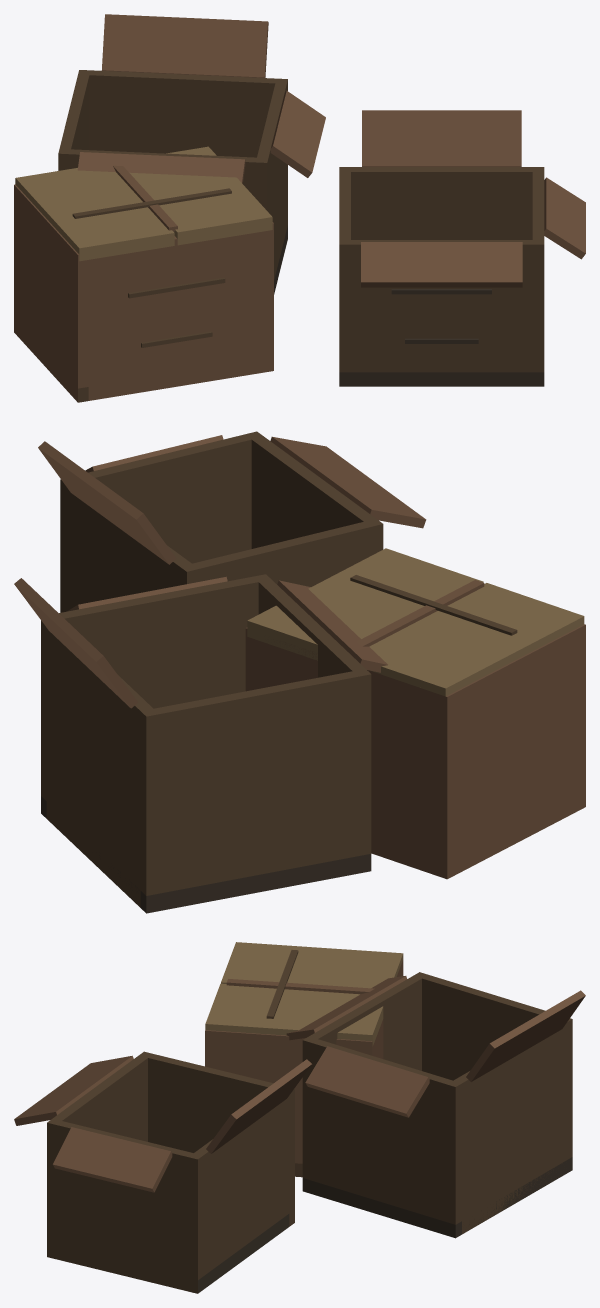
The model's file is CMU3DDecorFloorCardboardWest.glb.
The picture shows the model from 3 angles, top to bottom: view 1: azimuth 30°, elevation 25°; view 2: azimuth 150°, elevation 25°; view 3: azimuth 270°, elevation 25°; orthographic projection. The views are drawn at different scales.
Parts seen in each view (by area): view 1: carton 2 front wall, carton 3 front wall, carton 1 back wall, carton 3 back wall, carton 2 left wall, carton 1 raised back flap, carton 3 raised back flap, carton 2 closed lid half -1, carton 3 folded front flap, carton 2 closed lid half 1, carton 1 right wall, carton 1 folded front flap (+12 smaller); view 2: carton 1 left wall, carton 2 left wall, carton 1 back wall, carton 1 right wall, carton 2 back wall, carton 3 right wall, carton 2 closed lid half -1, carton 2 closed lid half 1, carton 3 front wall, carton 3 back wall, carton 3 left wall, carton 1 recessed bottom (+10 smaller); view 3: carton 1 right wall, carton 3 right wall, carton 1 back wall, carton 3 back wall, carton 3 left wall, carton 1 left wall, carton 2 closed lid half -1, carton 2 closed lid half 1, carton 2 right wall, carton 1 side flap, carton 3 side flap, carton 3 front wall (+9 smaller).
Boxes of the visible parts, x1,y1,x2,y2 form: carton 2 front wall: [88, 231, 263, 400]; carton 3 front wall: [351, 240, 532, 372]; carton 1 back wall: [89, 70, 276, 157]; carton 3 back wall: [351, 167, 532, 239]; carton 2 left wall: [14, 184, 88, 402]; carton 1 raised back flap: [102, 14, 268, 77]; carton 3 raised back flap: [362, 110, 521, 166]; carton 2 closed lid half -1: [15, 168, 174, 261]; carton 3 folded front flap: [361, 242, 522, 287]; carton 2 closed lid half 1: [129, 146, 272, 245]; carton 1 right wall: [255, 78, 287, 279]; carton 1 folded front flap: [77, 152, 245, 183]; carton 1 left wall: [140, 669, 371, 895]; carton 2 left wall: [436, 624, 585, 879]; carton 1 back wall: [46, 628, 152, 907]; carton 1 right wall: [41, 574, 271, 800]; carton 2 back wall: [256, 639, 436, 875]; carton 3 right wall: [60, 431, 263, 612]; carton 2 closed lid half -1: [369, 583, 584, 696]; carton 2 closed lid half 1: [247, 548, 483, 660]; carton 3 front wall: [251, 436, 375, 548]; carton 3 back wall: [67, 489, 191, 610]; carton 3 left wall: [179, 519, 383, 586]; carton 1 recessed bottom: [41, 796, 371, 913]; carton 1 right wall: [302, 1036, 461, 1224]; carton 3 right wall: [47, 1118, 203, 1293]; carton 1 back wall: [453, 1024, 566, 1234]; carton 3 back wall: [194, 1096, 289, 1275]; carton 3 left wall: [139, 1051, 294, 1226]; carton 1 left wall: [413, 972, 572, 1160]; carton 2 closed lid half -1: [221, 942, 403, 988]; carton 2 closed lid half 1: [205, 983, 383, 1046]; carton 2 right wall: [205, 1030, 373, 1163]; carton 1 side flap: [305, 1046, 429, 1117]; carton 3 side flap: [53, 1127, 172, 1192]; carton 3 front wall: [53, 1055, 147, 1141].
Bounding box in the file's own units: 0.8215 × 0.3462 × 0.9257.
